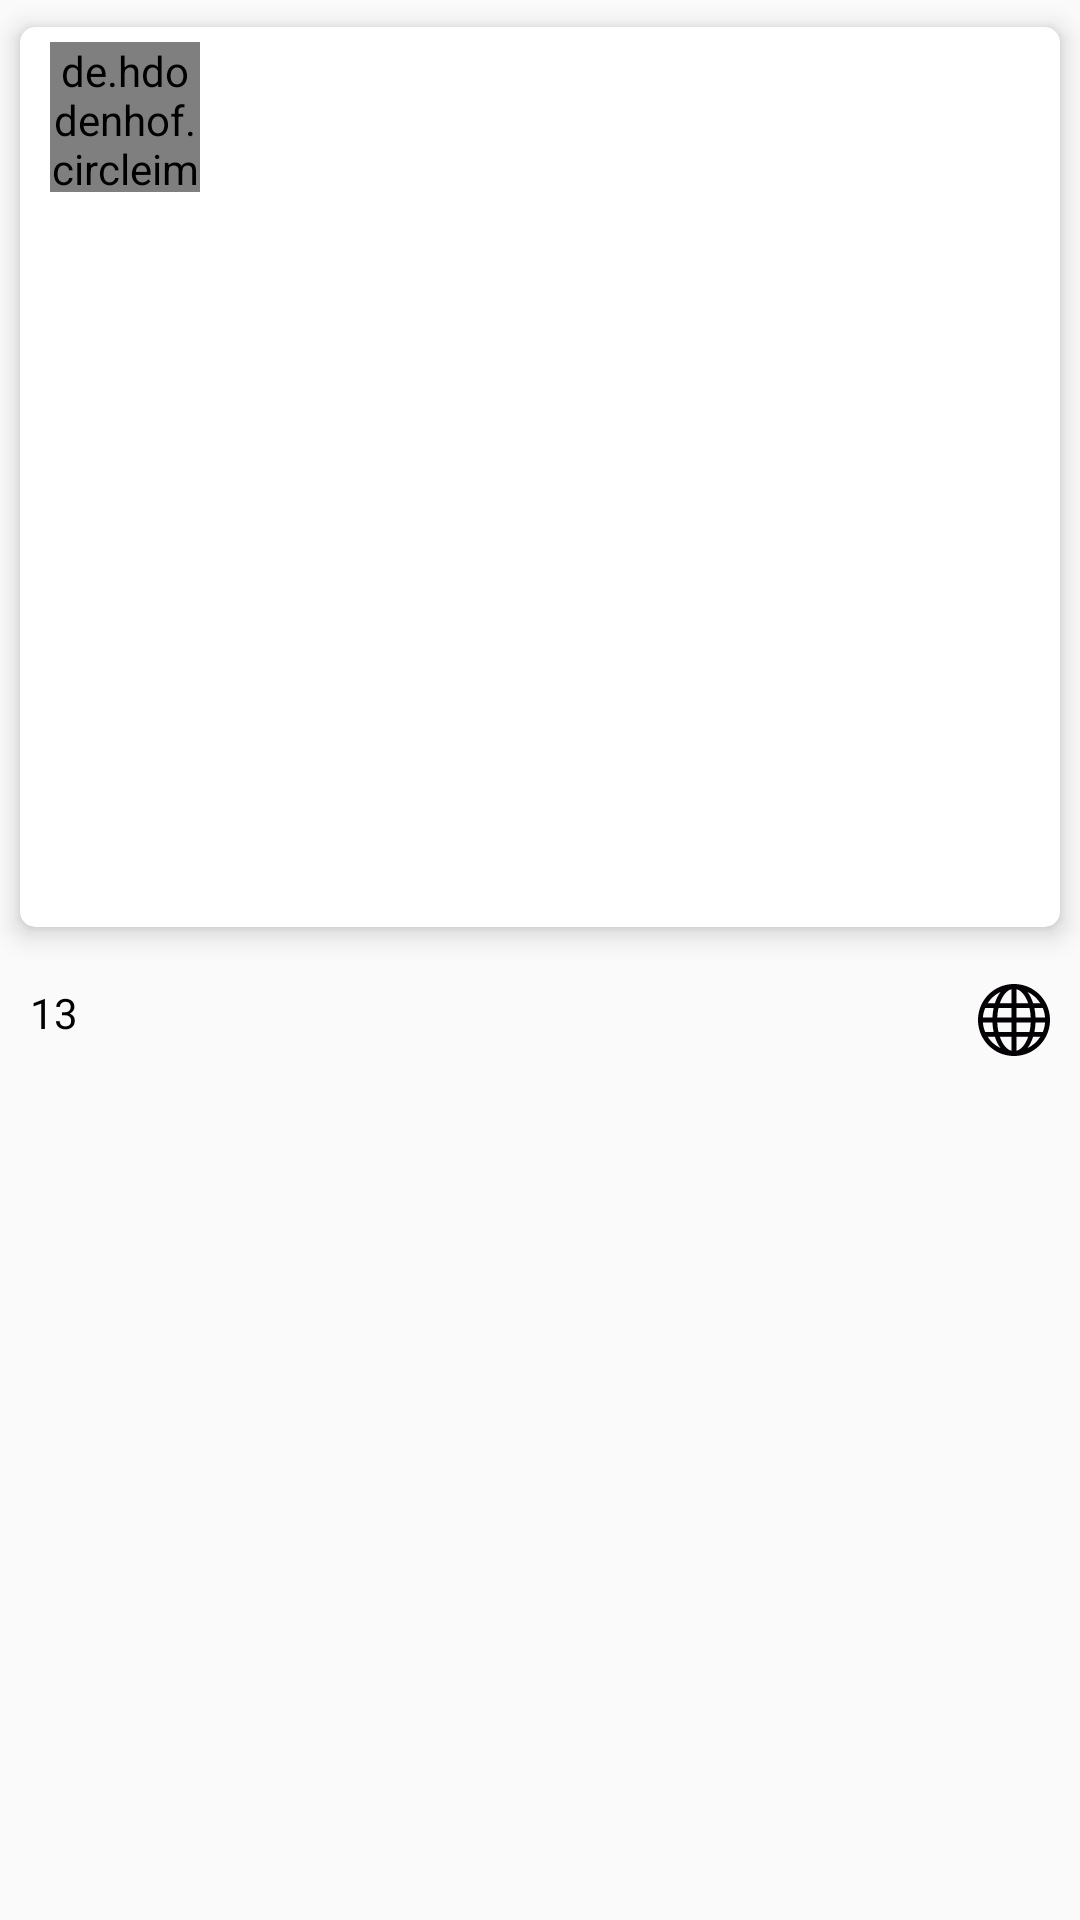

Icon bounding boxes for this 1080x1920 phone screenshot, format bbox=[x1, y1, x2, y2]:
grid world: bbox=[978, 984, 1050, 1056]
